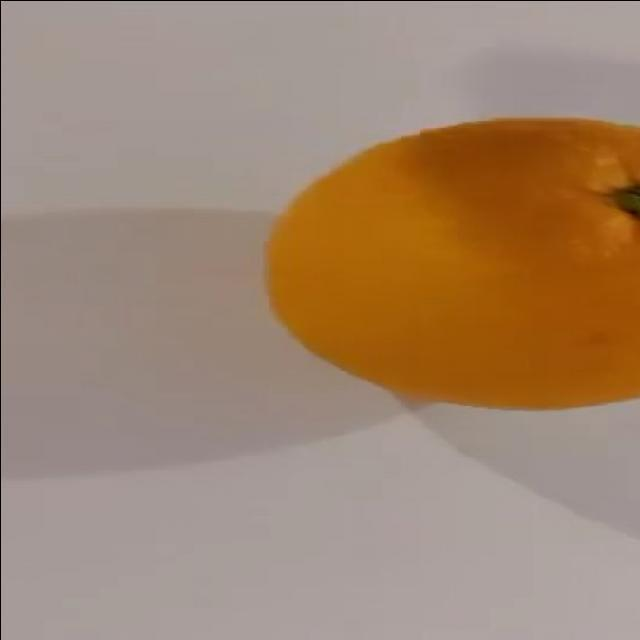Orange: (257, 113, 640, 419)
